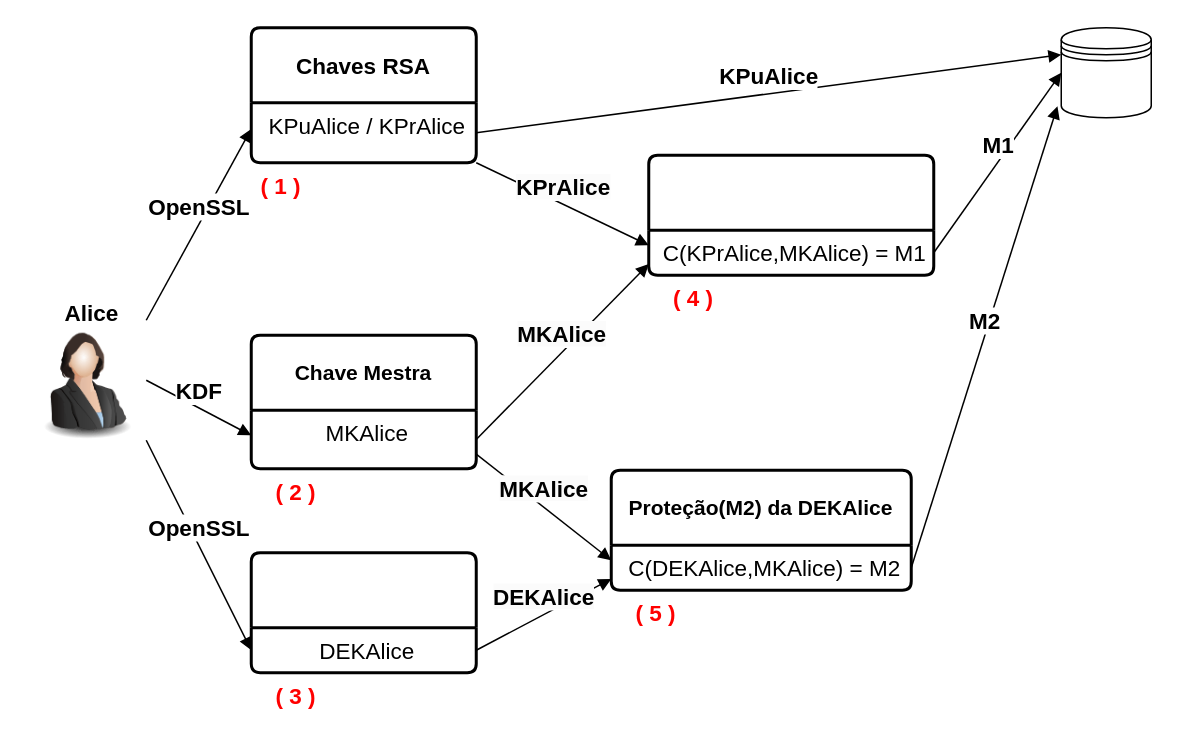
Some shapes in this 1178 by 743 pixel diagram are drawn without their labels. Each missing label, with the box of its shape:
Chave de Dados: (249, 550, 477, 674)
Proteção (M1) da KPrAlice: (646, 153, 934, 276)
